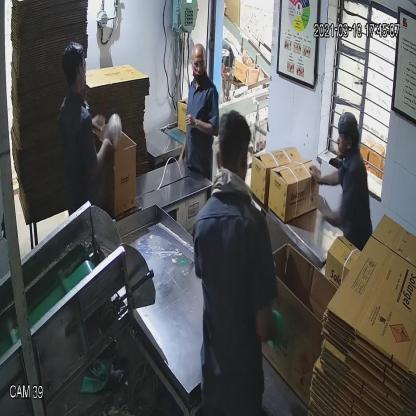no_glove: (78, 131, 112, 180), (310, 185, 342, 233), (306, 158, 344, 193), (183, 111, 218, 140)
